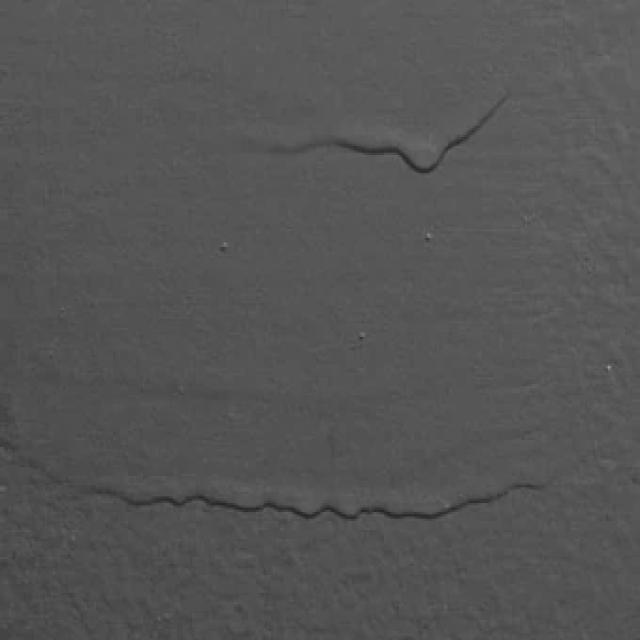paint drips: (84, 446, 590, 534), (228, 53, 518, 190)
